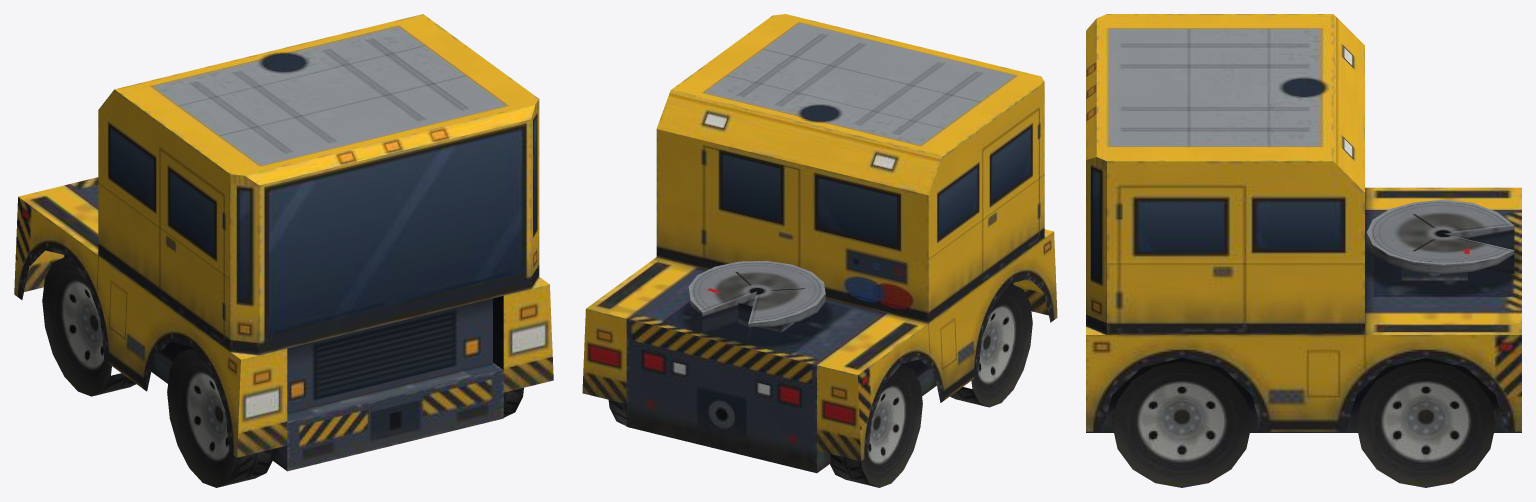
Rendered from yard-jockey-body.glb.
The picture shows the model from 3 angles, left to right: view 1: azimuth 30°, elevation 25°; view 2: azimuth 150°, elevation 25°; view 3: azimuth 270°, elevation 25°; orthographic projection. The views are drawn at different scales.
Parts seen in each view (by area): view 1: Yard-jockey-bodyBody; view 2: Yard-jockey-bodyBody; view 3: Yard-jockey-bodyBody.
Boxes of the visible parts, <box> form: Yard-jockey-bodyBody: <box>14,14,553,487</box>; Yard-jockey-bodyBody: <box>582,14,1057,487</box>; Yard-jockey-bodyBody: <box>1086,14,1521,487</box>.
Size of the model in its own units: 2.05 by 2.1 by 2.5.
1 material, 1 textured.
